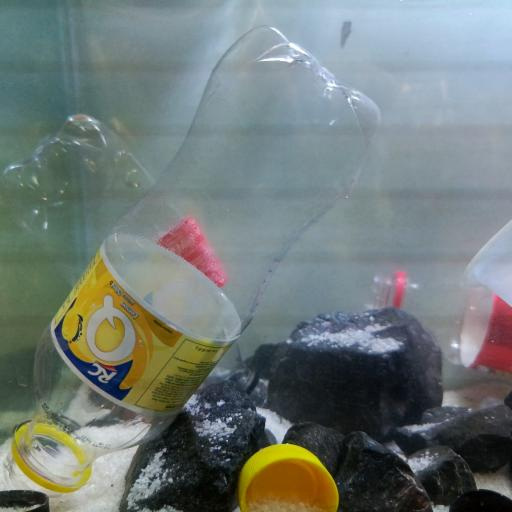bottle_cap: (242, 444, 336, 512)
plastic_bottle: (0, 25, 385, 512), (0, 110, 245, 374), (355, 261, 512, 372)
